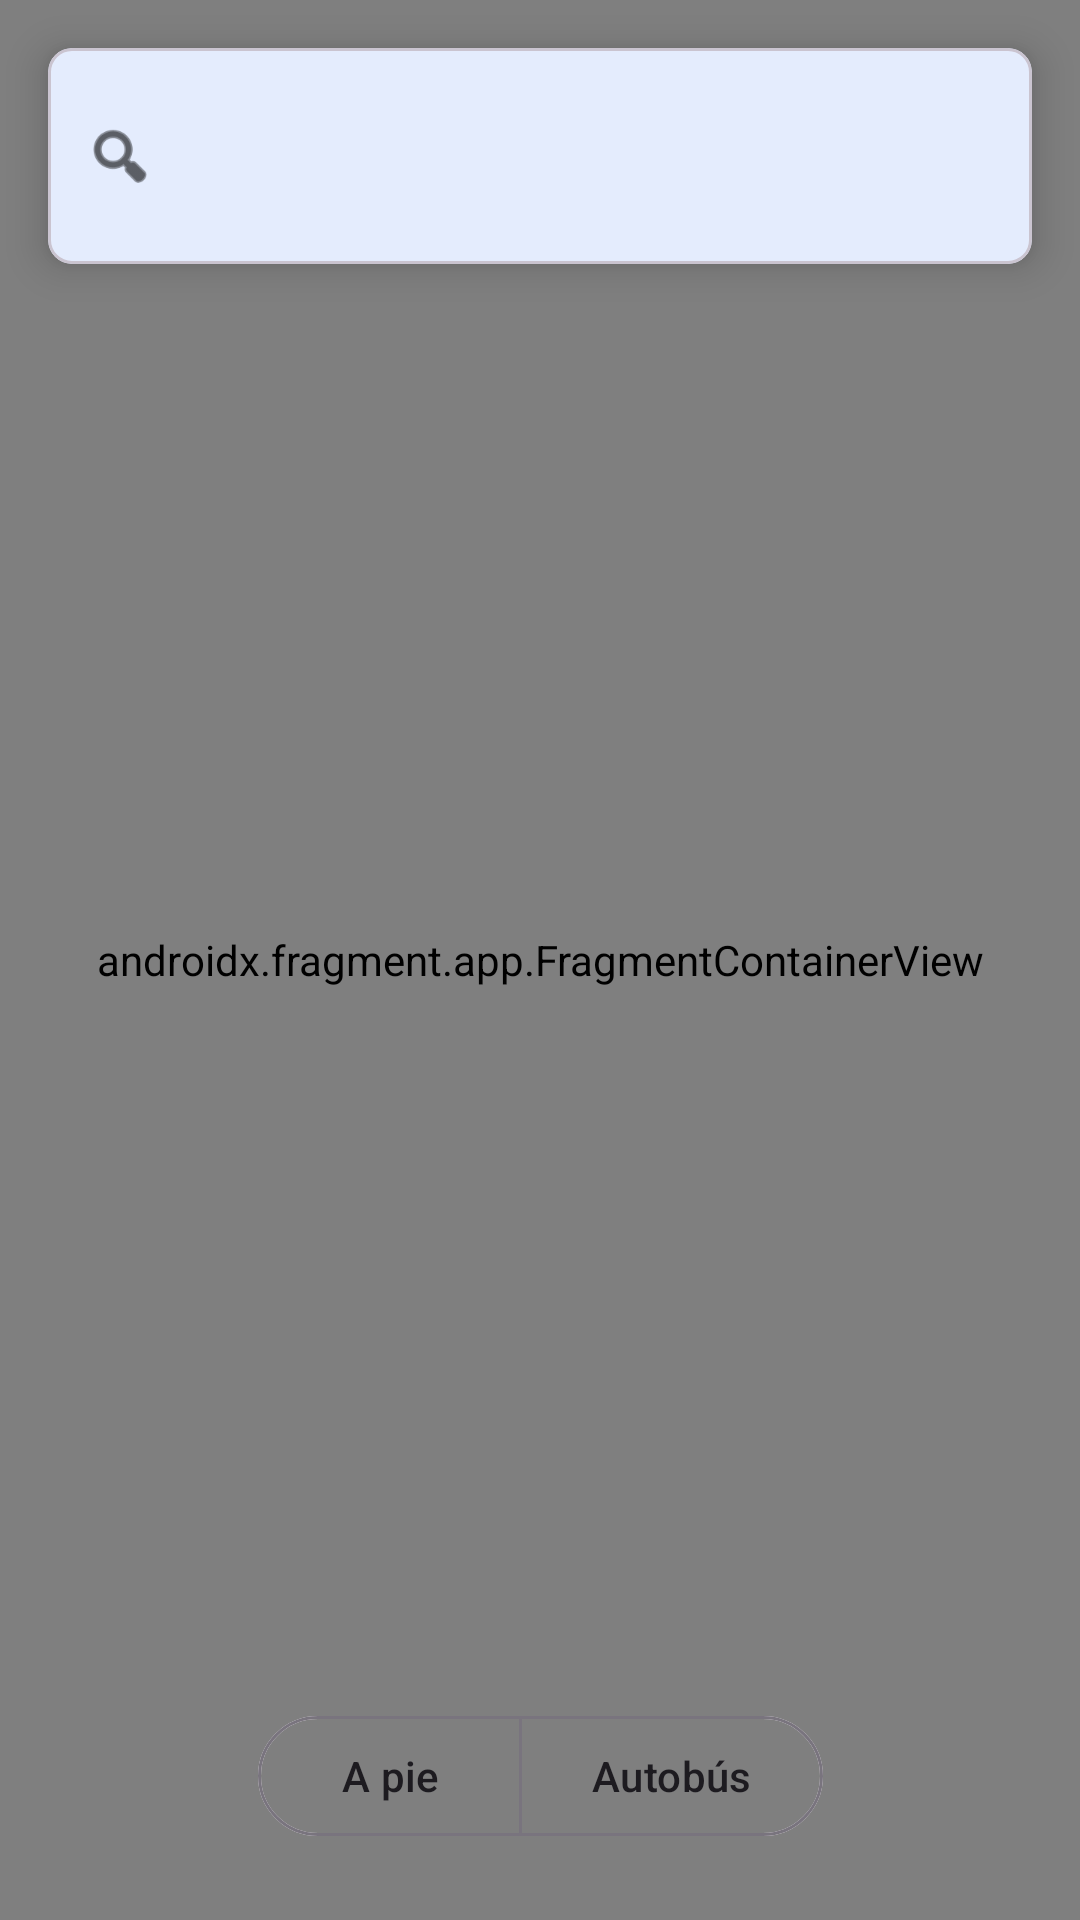

Icon click points for this 1080w x 1920h phone screenshot, format point (x, y):
Icono de búsqueda: point (120, 156)
